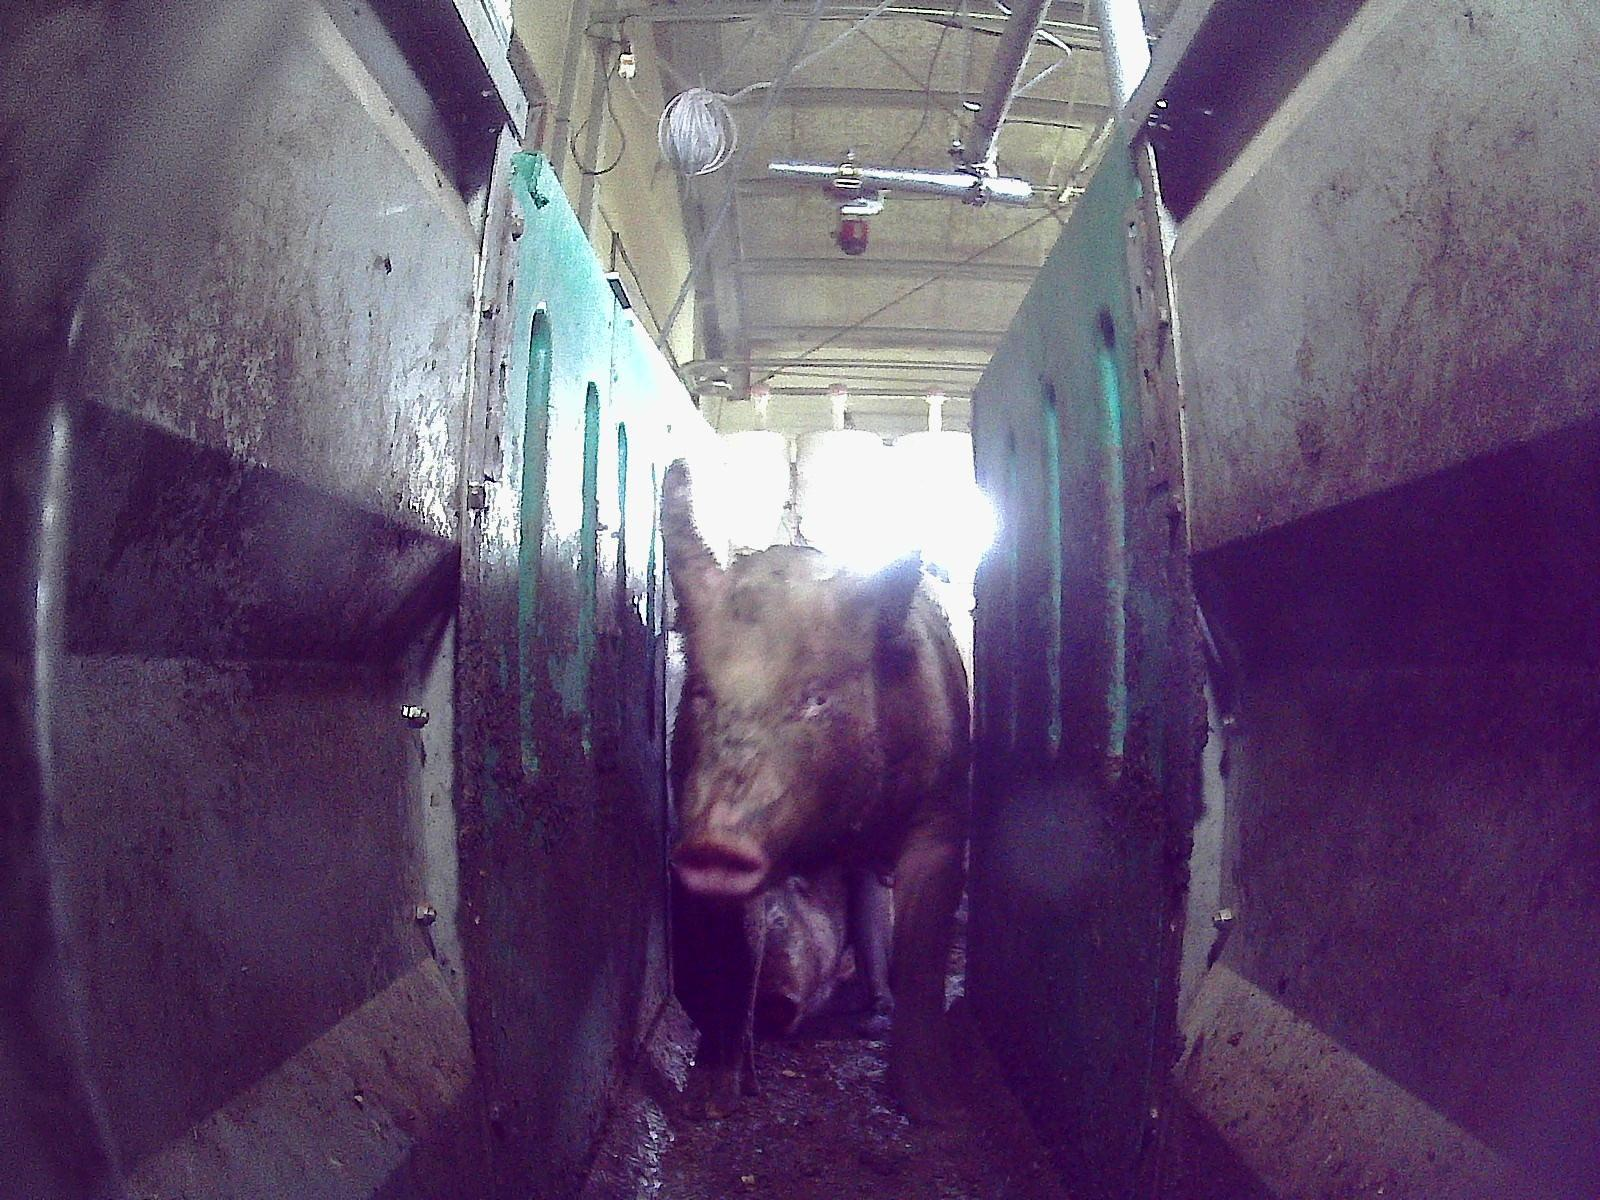Face: (670, 603, 878, 899)
